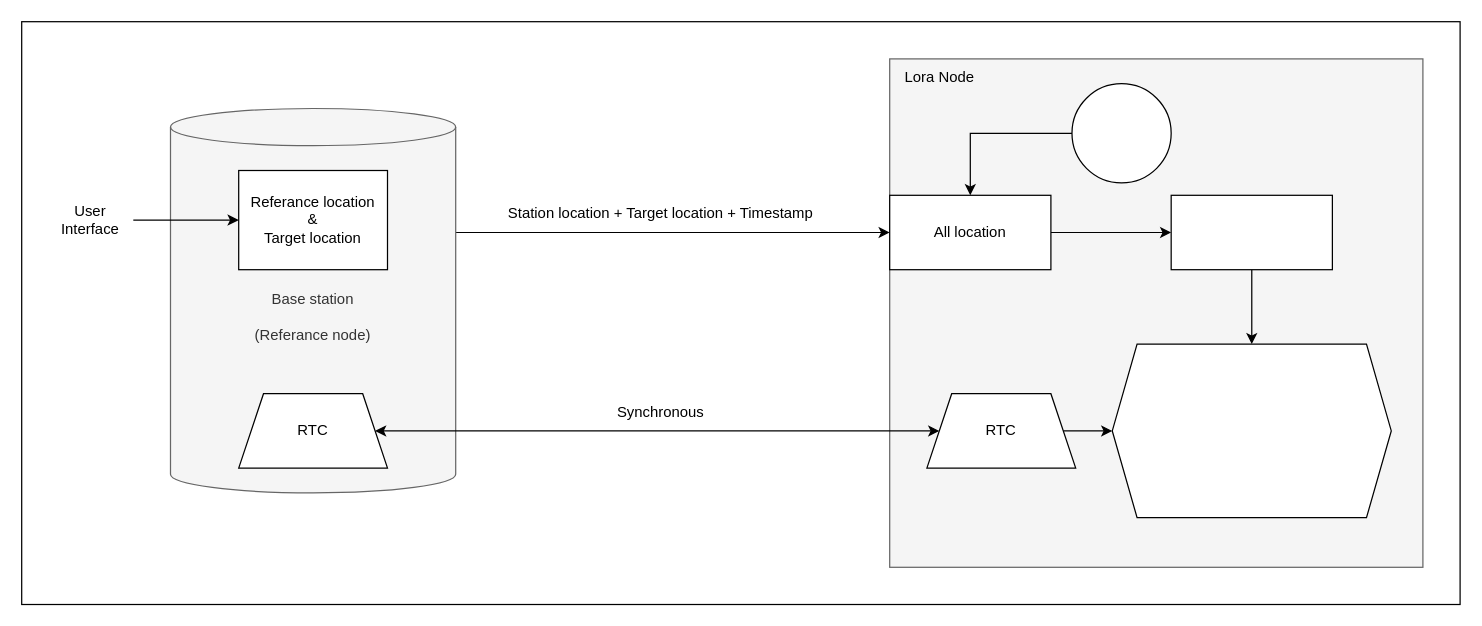
Image size: 1482x626. Some labels were removed from this diagram. The box of each missing label's shape, as (x1, y1, x2, y2) in pixels:
GPS: (1071, 82, 1171, 183)
High accuracy location detection algorithm & Movement algorithm to target point: (1111, 343, 1391, 518)
Signal RSSI & Timestamp: (1170, 194, 1332, 270)
